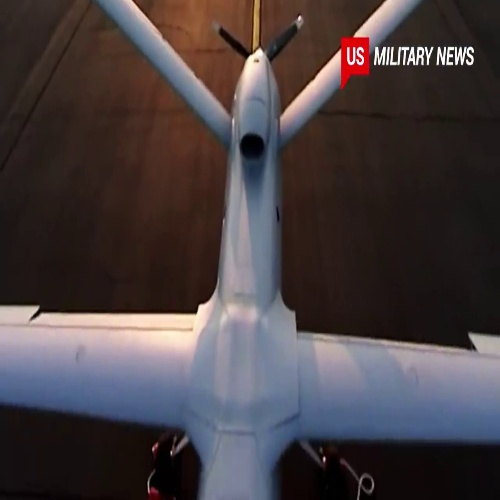uav99: (6, 4, 499, 500)
